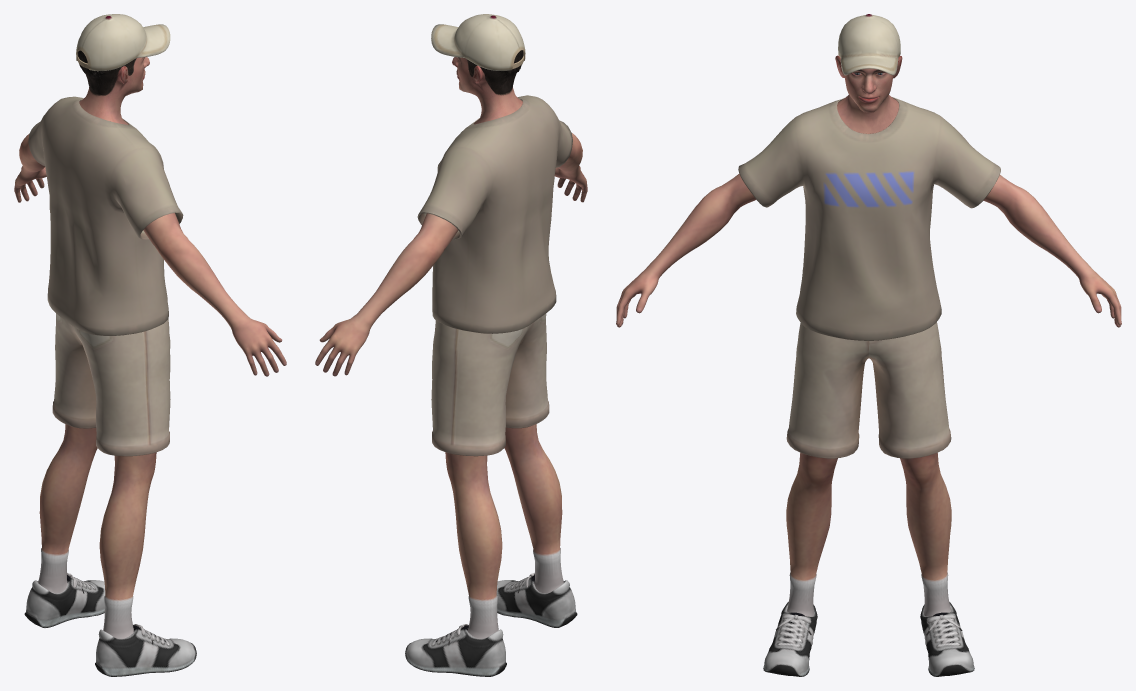
The model's file is sm_youngman_web.fbx.
3 views of the same model, side by side, from view 1: azimuth 30°, elevation 25°; view 2: azimuth 150°, elevation 25°; view 3: azimuth 270°, elevation 25° (orthographic). The views are drawn at different scales.
Parts seen in each view (by area): view 1: sm_youngman_web; view 2: sm_youngman_web; view 3: sm_youngman_web.
Part boxes in pixels (x1,y1,x2,y2): sm_youngman_web: (14, 14, 286, 676); sm_youngman_web: (315, 14, 587, 676); sm_youngman_web: (616, 14, 1121, 676).
Size of the model in its own units: 0.3394 by 1.88 by 1.34.
4 materials, 4 textured.
